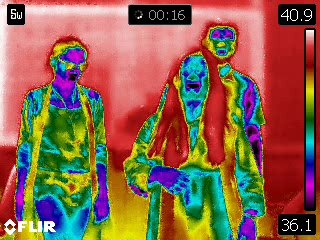human: (124, 49, 266, 240), (14, 34, 110, 240), (194, 18, 275, 199)
